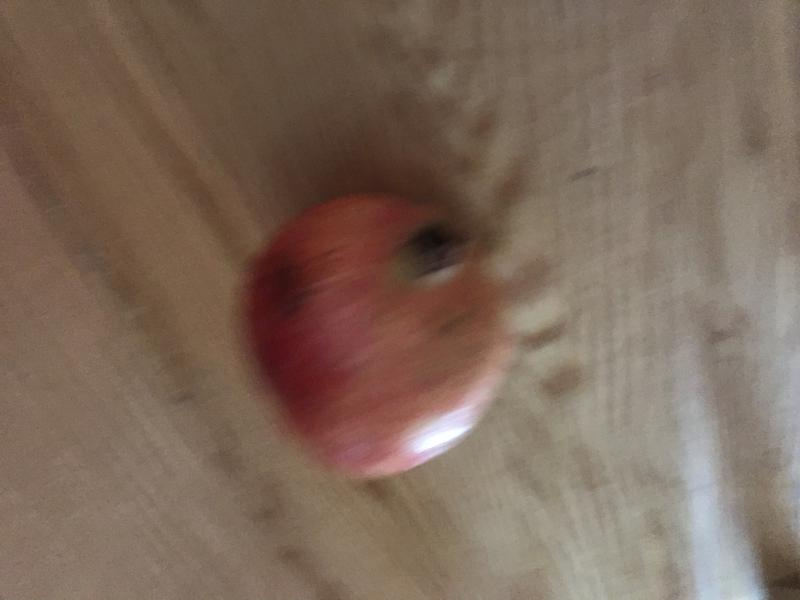pomegranate: (223, 178, 532, 506)
